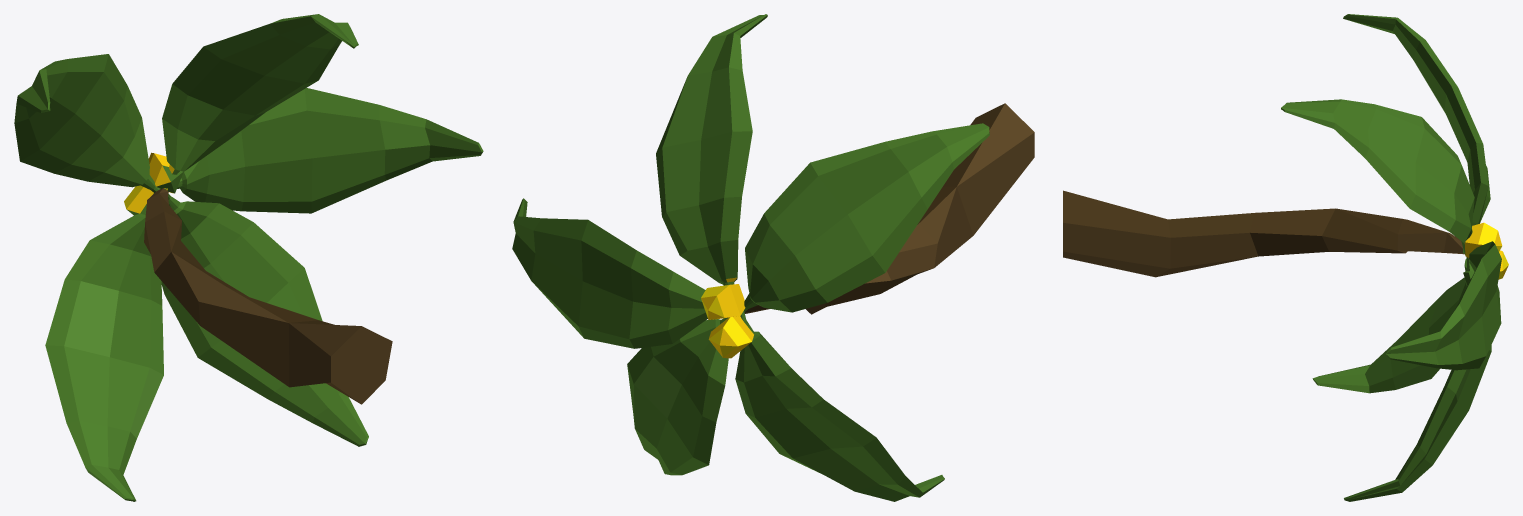
The model's file is tree_8.fbx.
The picture shows the model from 3 angles, left to right: view 1: azimuth 30°, elevation 25°; view 2: azimuth 150°, elevation 25°; view 3: azimuth 270°, elevation 25°; orthographic projection. The views are drawn at different scales.
Parts seen in each view (by area): view 1: tree_8; view 2: tree_8; view 3: tree_8.
Boxes of the visible parts, x1,y1,x2,y2 form: tree_8: [14, 14, 483, 501]; tree_8: [512, 14, 1034, 501]; tree_8: [1063, 14, 1508, 501].
Size of the model in its own units: 159 by 147 by 155.
